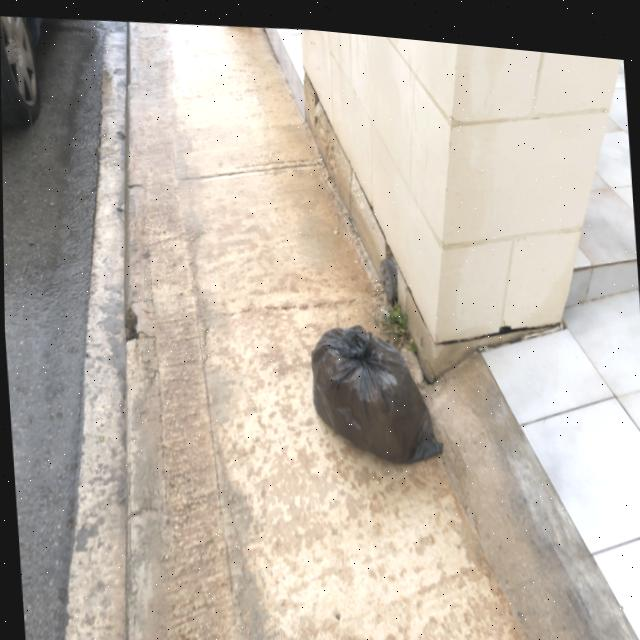Mixed Waste -Black Bag-: (309, 312, 445, 464)
